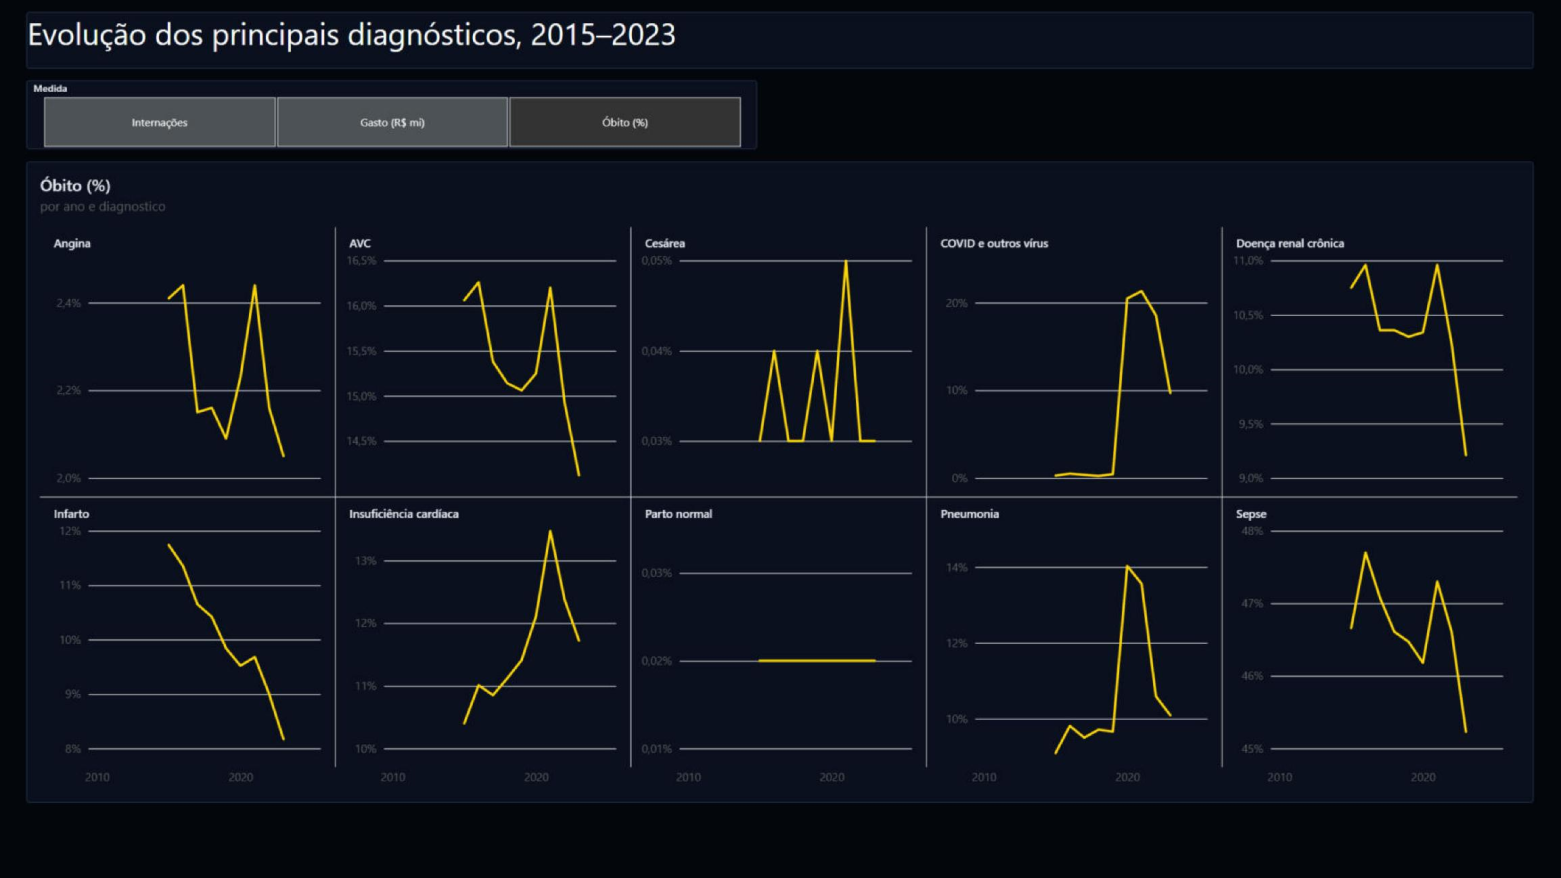

The page's visual inventory and layout, read from the dashboard file:
{"tool":"powerbi","page":{"name":"Evolução","canvas":[1920,1080],"ordinal":2},"visuals":[{"type":"slicer","fields":{"Values":["Medida.Medida"]},"box":[32,100,900,85],"z":0},{"type":"lineChart","fields":{"Category":["evolucao_diagnosticos.ano"],"Rows":["evolucao_diagnosticos.diagnostico"],"Y":["visao_anual.Internações (evolução)"]},"box":[32,200,1856,790],"z":1},{"type":"textbox","box":[32,16,1856,70],"z":2}]}

Visuals, with their boxes in screenshot pixels (x1, y1, x2, y2), scaled from the page's 1920x1080 canvas onto the 1561x878 screenshot:
slicer - Medida.Medida: detection(26, 81, 758, 150)
lineChart - evolucao_diagnosticos.ano x evolucao_diagnosticos.diagnostico: detection(26, 163, 1535, 805)
textbox: detection(26, 13, 1535, 70)
